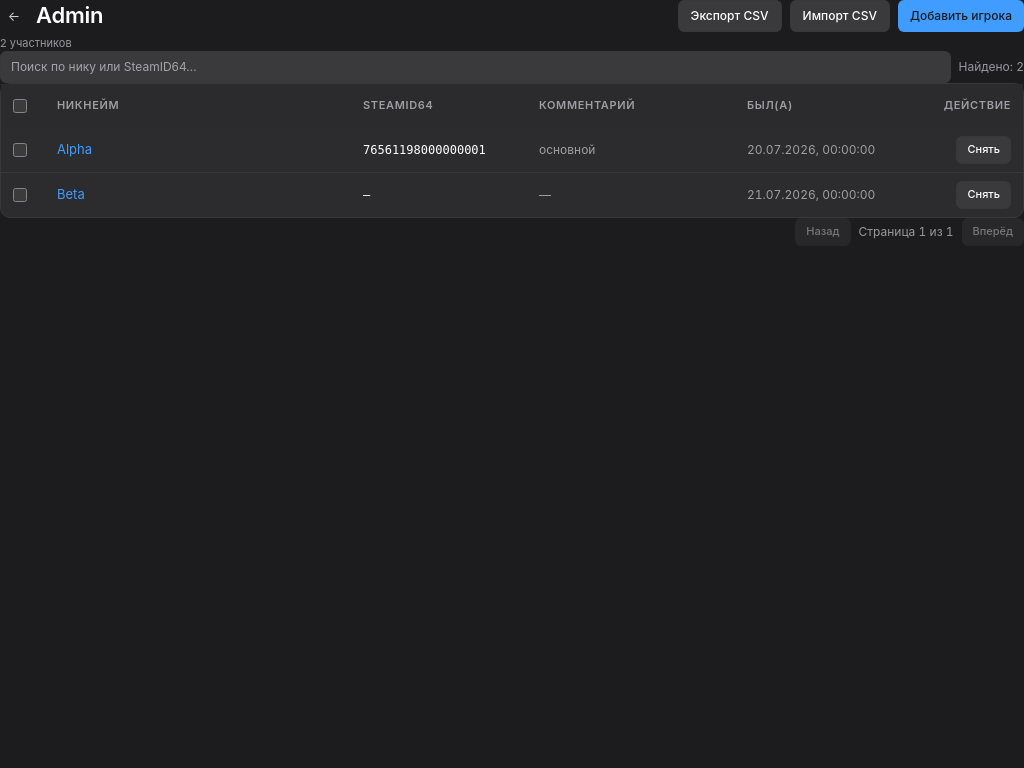
Test case: MembersPage — branch coverage › surfaces an error when bulk delete fails
Expected: the link "Alpha" is shown, [57,141,92,157]
What coordinates should you click on to do the following:
click the checkbox named "Выбрать Alpha" next to "Alpha"
I would click on:
 (20, 150)
Its box is [13,143,27,157].
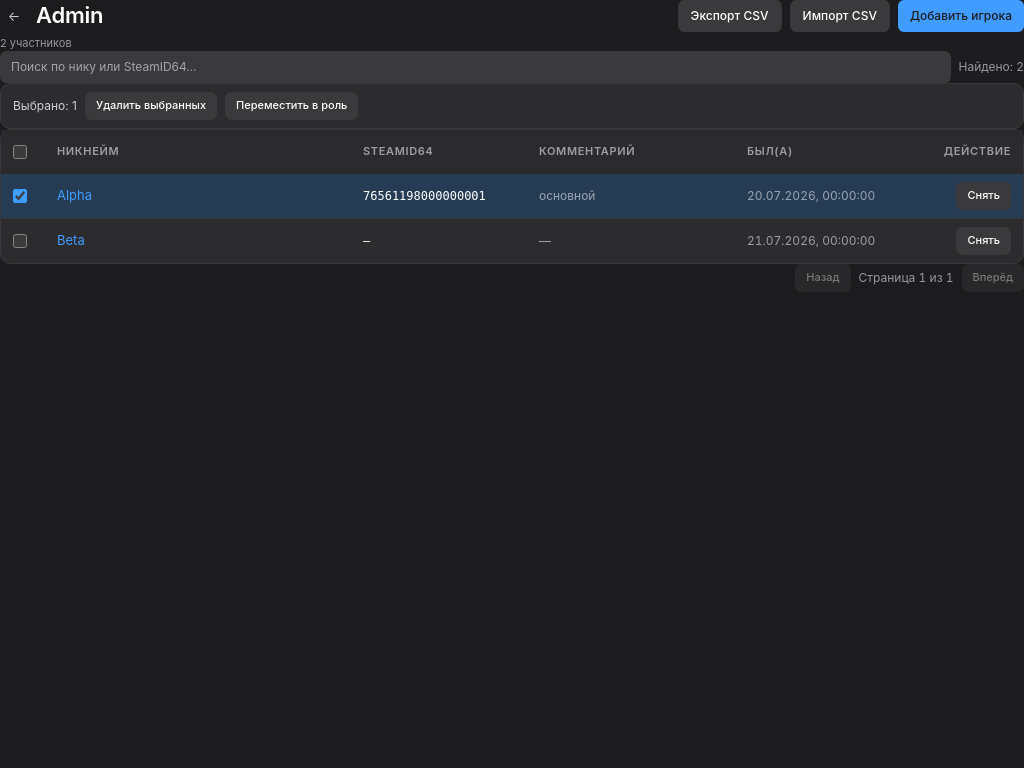
What coordinates should you click on to do the following:
click the button "Удалить выбранных"
I would click on:
 (151, 106)
Its box is [85,92,217,120].
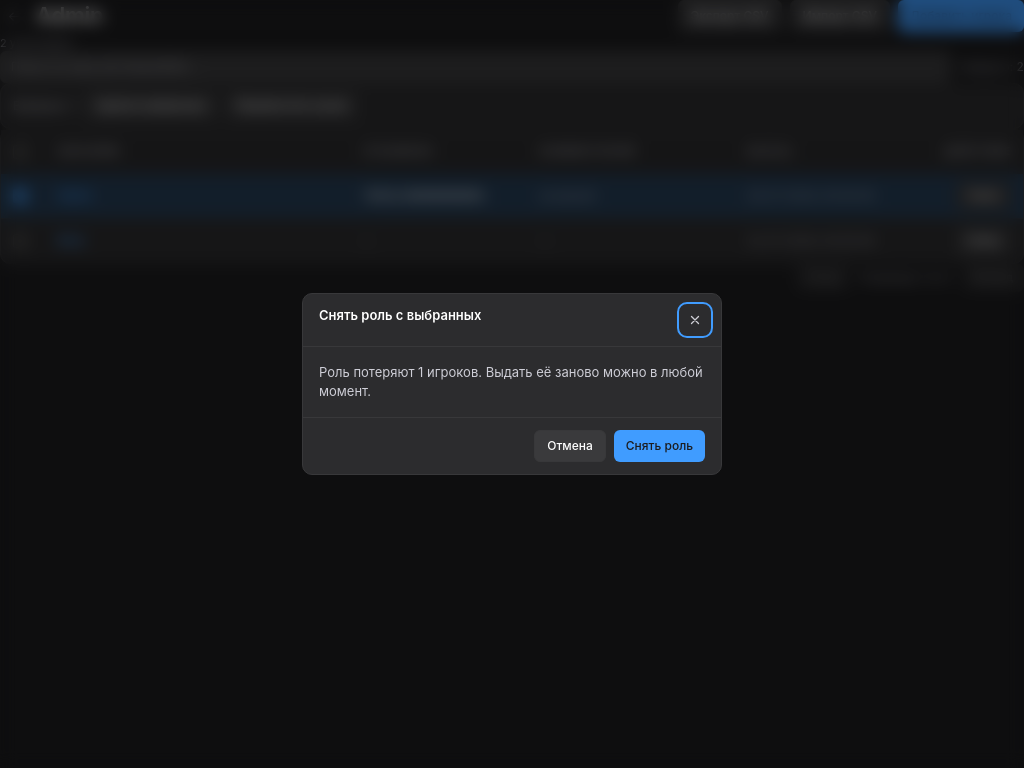
What coordinates should you click on to do the following:
click the button "Снять роль"
I would click on:
 (659, 446)
Its box is [614,430,705,462].
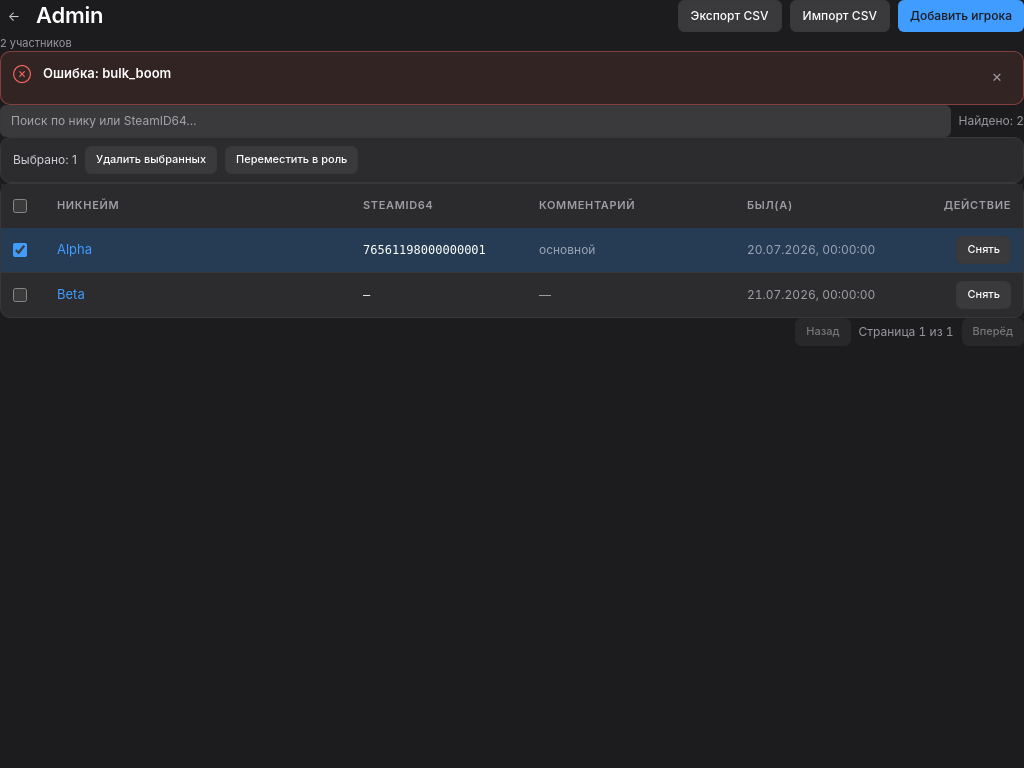
Now the text "Ошибка: bulk_boom" is shown, box [43,65,171,81]
